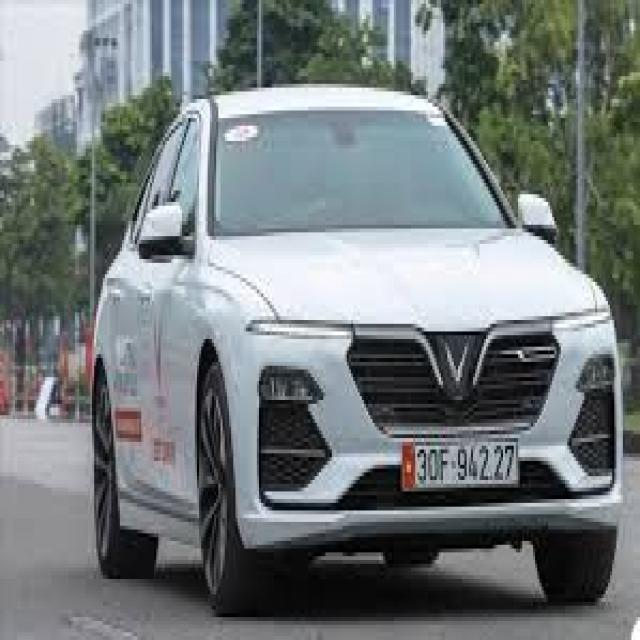bien_so: (396, 429, 531, 511)
